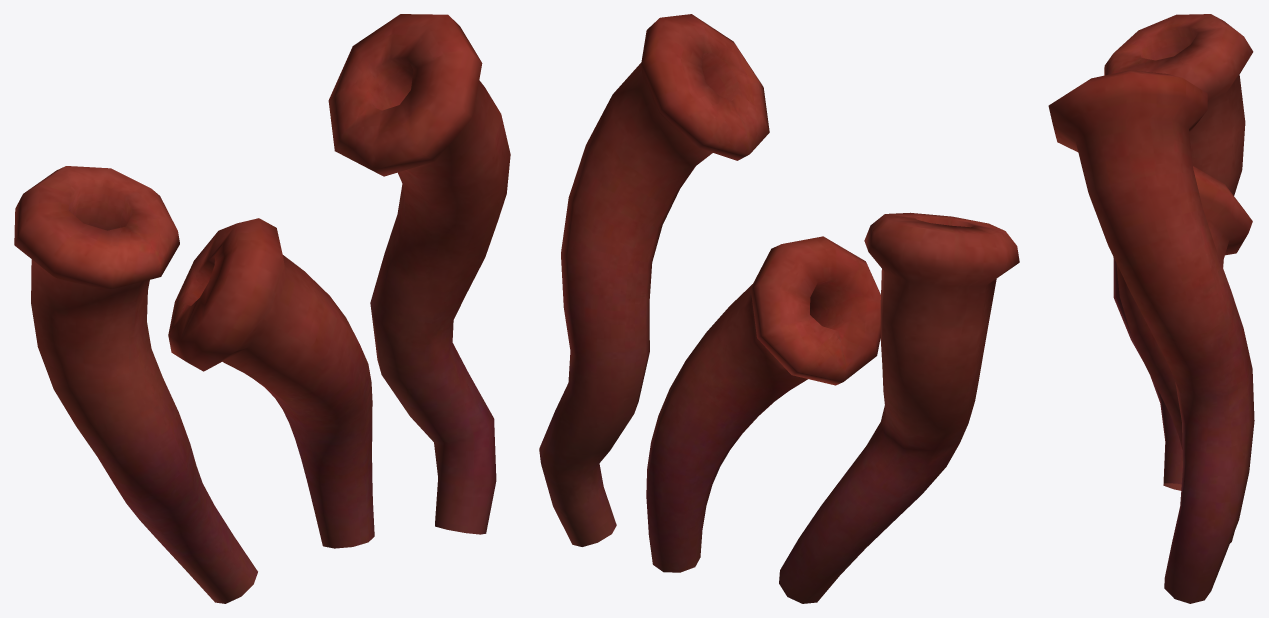
The model's file is plant_44.fbx.
The picture shows the model from 3 angles, left to right: view 1: azimuth 30°, elevation 25°; view 2: azimuth 150°, elevation 25°; view 3: azimuth 270°, elevation 25°; orthographic projection. The views are drawn at different scales.
Visible parts, largest first — view 1: pipe, pipe2, pipe1; view 2: pipe, pipe2, pipe1; view 3: pipe, pipe2, pipe1.
Part boxes in pixels (box(x1,y1,x2,y2)): pipe: box(328, 14, 510, 534); pipe2: box(14, 166, 257, 603); pipe1: box(168, 218, 374, 548); pipe: box(539, 14, 769, 546); pipe2: box(779, 212, 1019, 603); pipe1: box(646, 236, 880, 572); pipe: box(1048, 70, 1254, 603); pipe2: box(1104, 14, 1253, 490); pipe1: box(1116, 166, 1252, 543).
Size of the model in its own units: 8.25 by 9.06 by 3.33.
